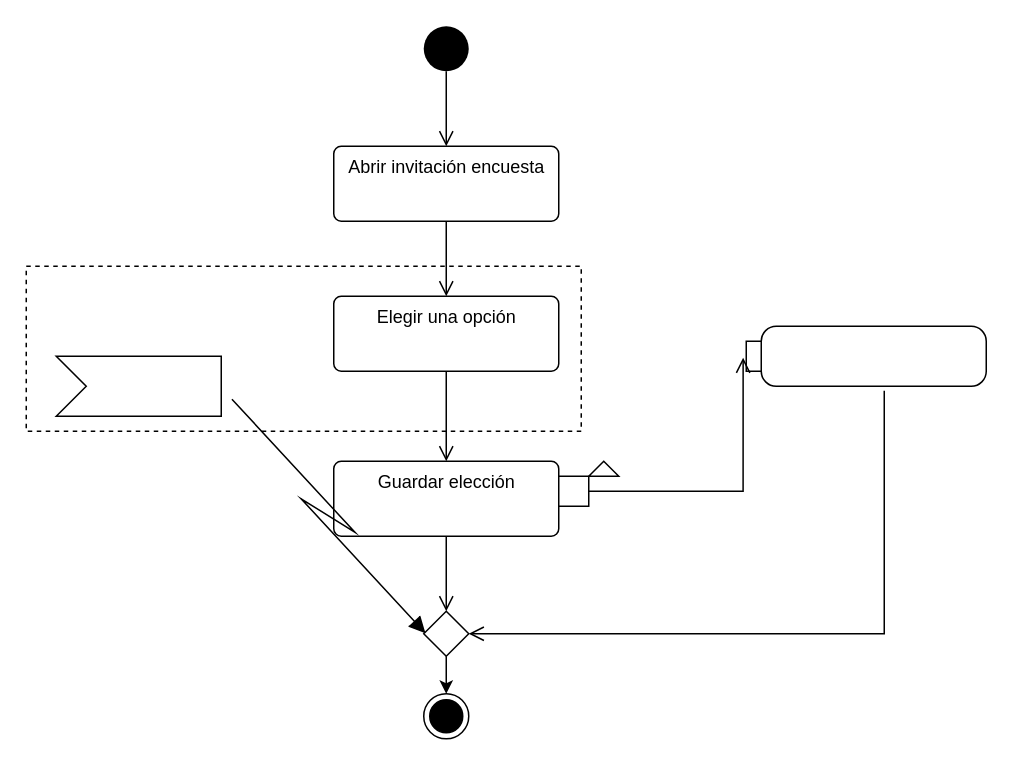
Some shapes in this 1013 by 765 pixel diagram are drawn without their labels. The shapes that lost their labels are listed below. From the top down, each one's centre as x and y in pixels, then its label:
the point at 865,355: Error guardar elección
the point at 138,385: Cancelar
